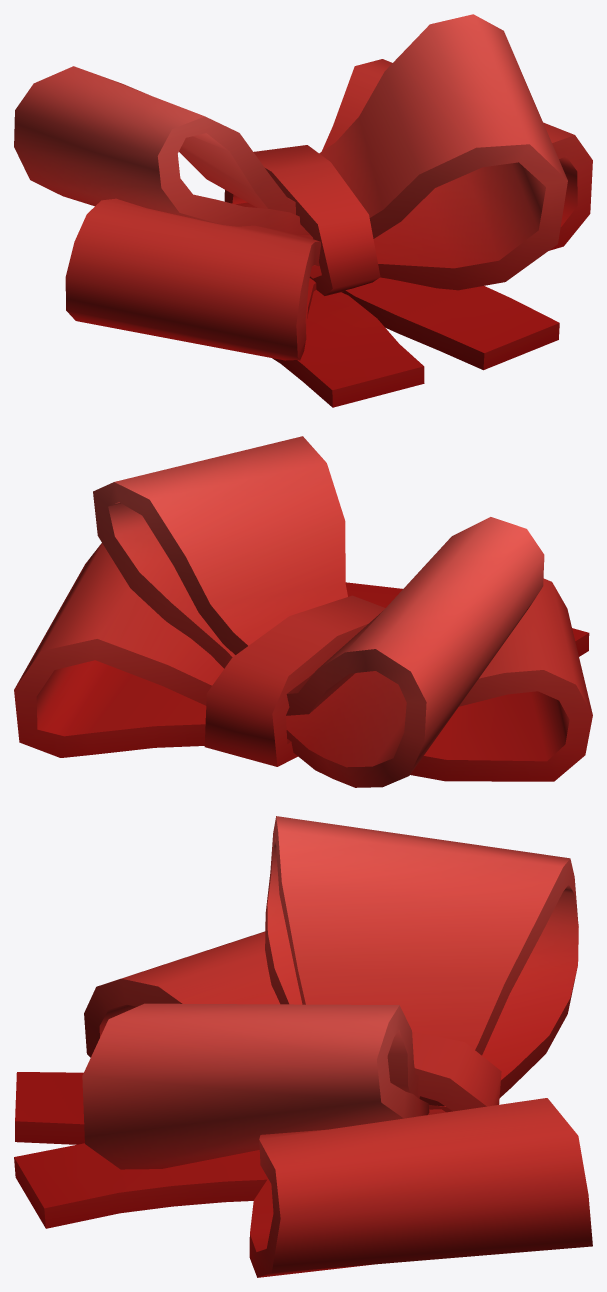
File: bow_016.fbx
3 renders of one model, top to bottom at view 1: azimuth 30°, elevation 25°; view 2: azimuth 150°, elevation 25°; view 3: azimuth 270°, elevation 25°, orthographic. The views are drawn at different scales.
Parts seen in each view (by area): view 1: bow_016; view 2: bow_016; view 3: bow_016.
Part boxes in pixels (x1=…): bow_016: x1=14, y1=14, x2=592, y2=407; bow_016: x1=14, y1=436, x2=592, y2=787; bow_016: x1=14, y1=816, x2=592, y2=1277.
Bounding box in the file's own units: 246 × 206 × 99.13.
